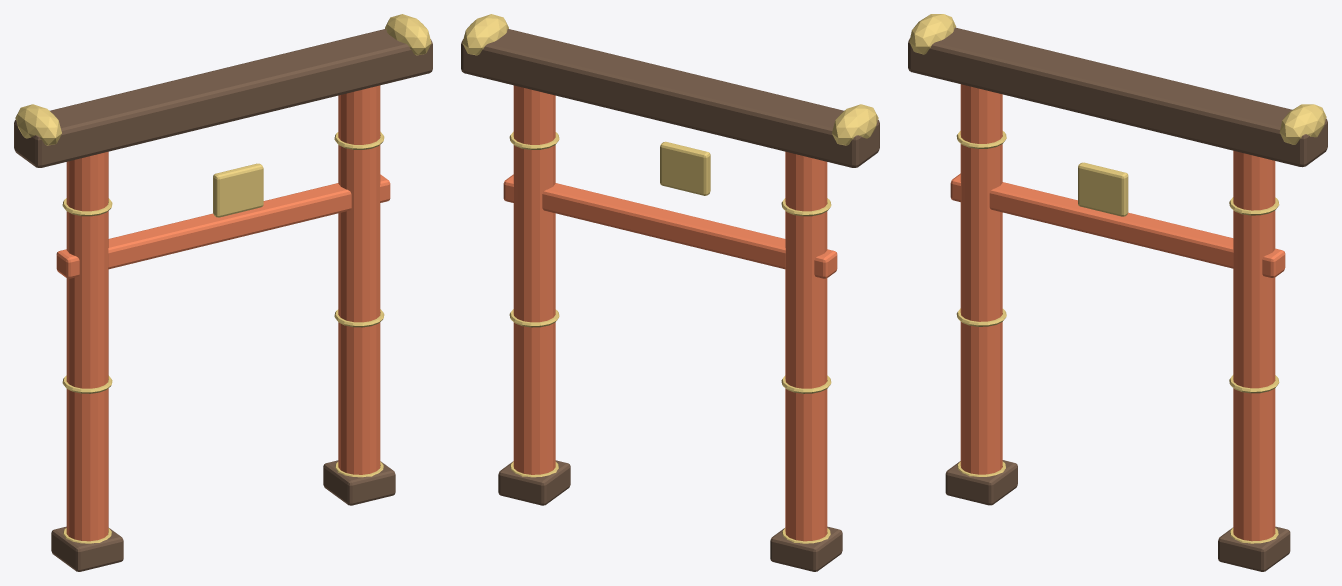
The model's file is stage_torii_prop.glb.
3 views of the same model, side by side, from view 1: azimuth 30°, elevation 25°; view 2: azimuth 150°, elevation 25°; view 3: azimuth 330°, elevation 25° (orthographic).
Parts seen in each view (by area): view 1: Faithful miniature lacquer torii kasagi upper crossbeam, Faithful miniature lacquer torii lacquered main pillar, Faithful miniature lacquer torii lacquered main pillar.001, Faithful miniature lacquer torii nuki secondary beam, Faithful miniature lacquer torii traditional central plate, Faithful miniature lacquer torii black foot.001, Faithful miniature lacquer torii black foot, Faithful miniature lacquer torii finial gold, Faithful miniature lacquer torii finial gold.001; view 2: Faithful miniature lacquer torii kasagi upper crossbeam, Faithful miniature lacquer torii lacquered main pillar, Faithful miniature lacquer torii lacquered main pillar.001, Faithful miniature lacquer torii nuki secondary beam, Faithful miniature lacquer torii traditional central plate, Faithful miniature lacquer torii black foot.001, Faithful miniature lacquer torii black foot, Faithful miniature lacquer torii finial gold, Faithful miniature lacquer torii finial gold.001; view 3: Faithful miniature lacquer torii kasagi upper crossbeam, Faithful miniature lacquer torii lacquered main pillar.001, Faithful miniature lacquer torii lacquered main pillar, Faithful miniature lacquer torii nuki secondary beam, Faithful miniature lacquer torii traditional central plate, Faithful miniature lacquer torii black foot, Faithful miniature lacquer torii black foot.001, Faithful miniature lacquer torii finial gold.001, Faithful miniature lacquer torii finial gold.
Part boxes in pixels (left/top/right/bottom): Faithful miniature lacquer torii kasagi upper crossbeam: left=14, top=29, right=432, bottom=167; Faithful miniature lacquer torii lacquered main pillar: left=66, top=151, right=108, bottom=541; Faithful miniature lacquer torii lacquered main pillar.001: left=338, top=85, right=380, bottom=474; Faithful miniature lacquer torii nuki secondary beam: left=56, top=174, right=390, bottom=278; Faithful miniature lacquer torii traditional central plate: left=213, top=163, right=263, bottom=217; Faithful miniature lacquer torii black foot.001: left=323, top=460, right=395, bottom=505; Faithful miniature lacquer torii black foot: left=51, top=526, right=123, bottom=571; Faithful miniature lacquer torii finial gold: left=15, top=104, right=61, bottom=145; Faithful miniature lacquer torii finial gold.001: left=385, top=14, right=431, bottom=55; Faithful miniature lacquer torii kasagi upper crossbeam: left=461, top=29, right=879, bottom=167; Faithful miniature lacquer torii lacquered main pillar: left=785, top=151, right=827, bottom=541; Faithful miniature lacquer torii lacquered main pillar.001: left=513, top=85, right=555, bottom=474; Faithful miniature lacquer torii nuki secondary beam: left=503, top=174, right=837, bottom=278; Faithful miniature lacquer torii traditional central plate: left=660, top=141, right=710, bottom=195; Faithful miniature lacquer torii black foot.001: left=498, top=460, right=570, bottom=505; Faithful miniature lacquer torii black foot: left=770, top=526, right=842, bottom=571; Faithful miniature lacquer torii finial gold: left=832, top=104, right=878, bottom=145; Faithful miniature lacquer torii finial gold.001: left=462, top=14, right=508, bottom=55; Faithful miniature lacquer torii kasagi upper crossbeam: left=908, top=27, right=1327, bottom=167; Faithful miniature lacquer torii lacquered main pillar.001: left=1233, top=150, right=1275, bottom=541; Faithful miniature lacquer torii lacquered main pillar: left=960, top=84, right=1002, bottom=474; Faithful miniature lacquer torii nuki secondary beam: left=950, top=173, right=1285, bottom=277; Faithful miniature lacquer torii traditional central plate: left=1078, top=162, right=1128, bottom=216; Faithful miniature lacquer torii black foot: left=945, top=460, right=1017, bottom=505; Faithful miniature lacquer torii black foot.001: left=1218, top=526, right=1290, bottom=571; Faithful miniature lacquer torii finial gold.001: left=1279, top=104, right=1326, bottom=144; Faithful miniature lacquer torii finial gold: left=909, top=14, right=956, bottom=54.
Size of the model in its own units: 1.77 by 1.95 by 0.263.
